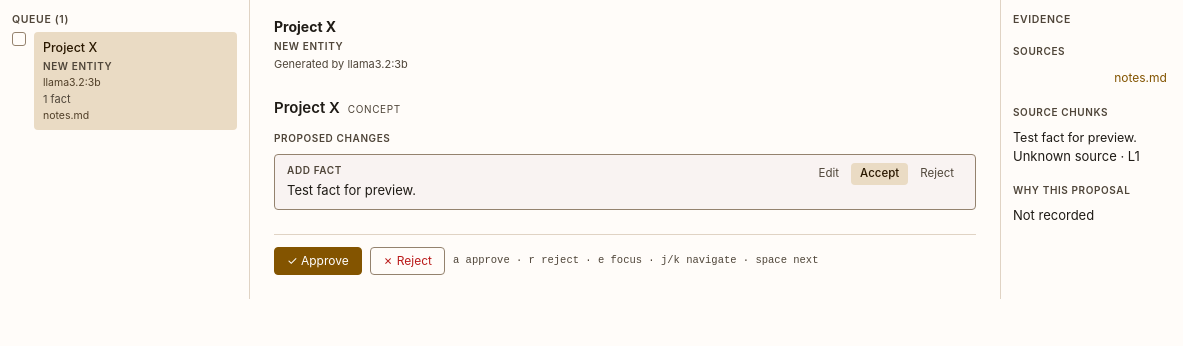
approve that commits nothing says so instead of vanishing silently
Click the button "✓ Approve": [318, 260] box x1=274 y1=246 x2=362 y2=274
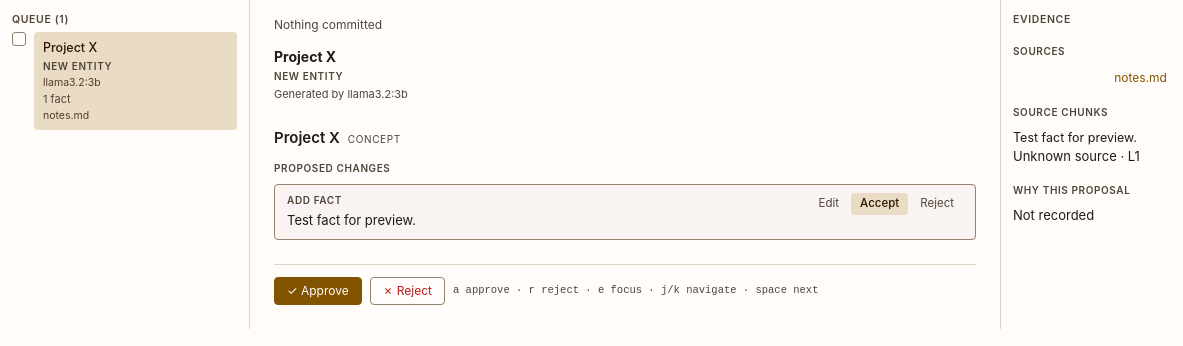
Now the text "Nothing committed" is shown, box x1=274 y1=17 x2=382 y2=32
